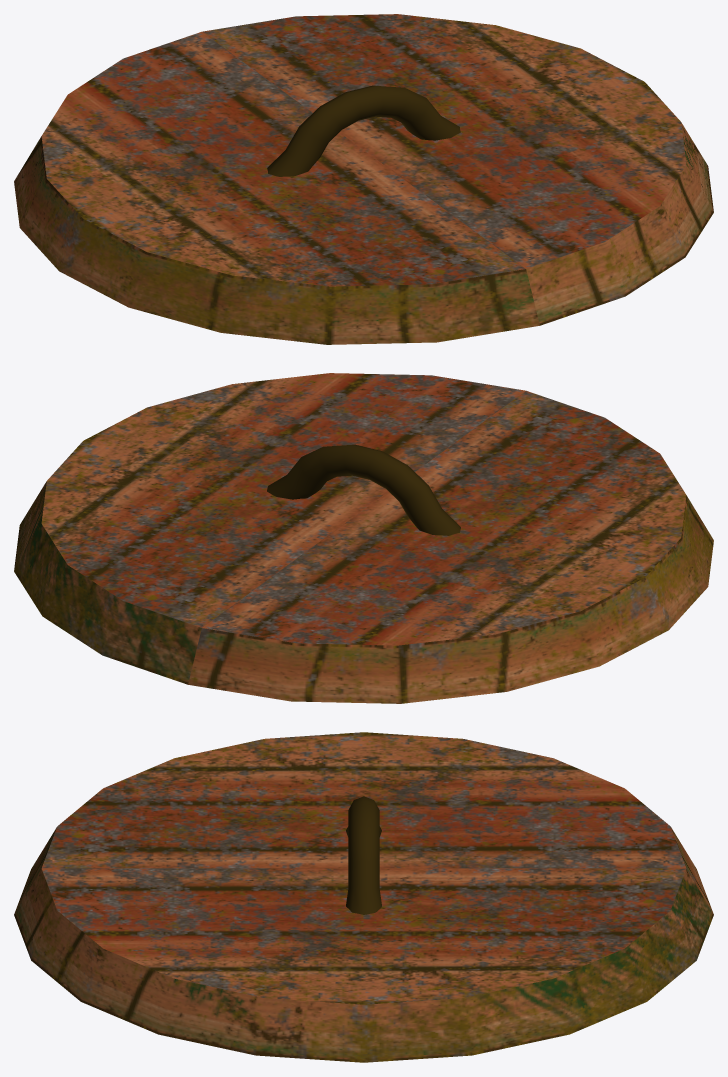
Rendered from shield.glb.
3 renders of one model, top to bottom at view 1: azimuth 30°, elevation 25°; view 2: azimuth 150°, elevation 25°; view 3: azimuth 270°, elevation 25°, orthographic.
Parts seen in each view (by area): view 1: Barell2, Torus; view 2: Barell2, Torus; view 3: Barell2, Torus.
Boxes of the visible parts, x1,y1,x2,y2 form: Barell2: (14, 14, 713, 344); Torus: (267, 85, 460, 176); Barell2: (14, 373, 713, 703); Torus: (267, 444, 460, 535); Barell2: (14, 732, 713, 1062); Torus: (346, 796, 381, 914).
Size of the model in its own units: 2.15 by 0.3619 by 2.15.
1 material, 1 textured.
